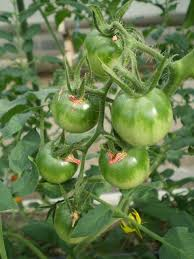stems: (129, 52, 143, 93), (101, 129, 121, 153), (103, 22, 129, 37), (75, 85, 103, 98), (58, 143, 84, 156)
tomato: (112, 82, 174, 147), (98, 137, 151, 189), (82, 28, 136, 79), (51, 82, 100, 133), (52, 199, 97, 243), (36, 139, 80, 184)
